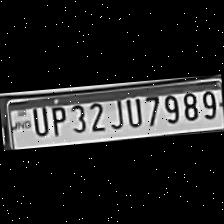2: (84, 96, 106, 132)
3: (66, 99, 86, 134)
7: (141, 92, 161, 128)
8: (179, 88, 200, 122)
9: (198, 86, 219, 119), (160, 90, 180, 124)
J: (104, 95, 125, 130)
P: (46, 102, 68, 136)
U: (26, 103, 49, 136), (123, 94, 143, 128)
